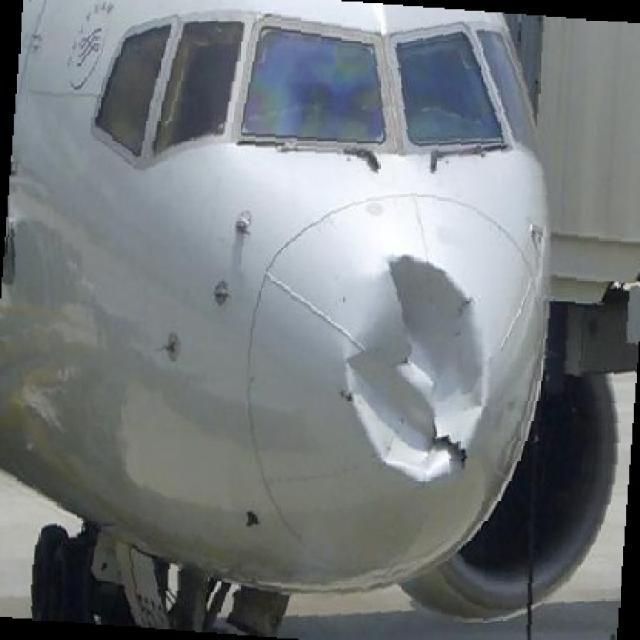dent: (350, 253, 495, 487)
